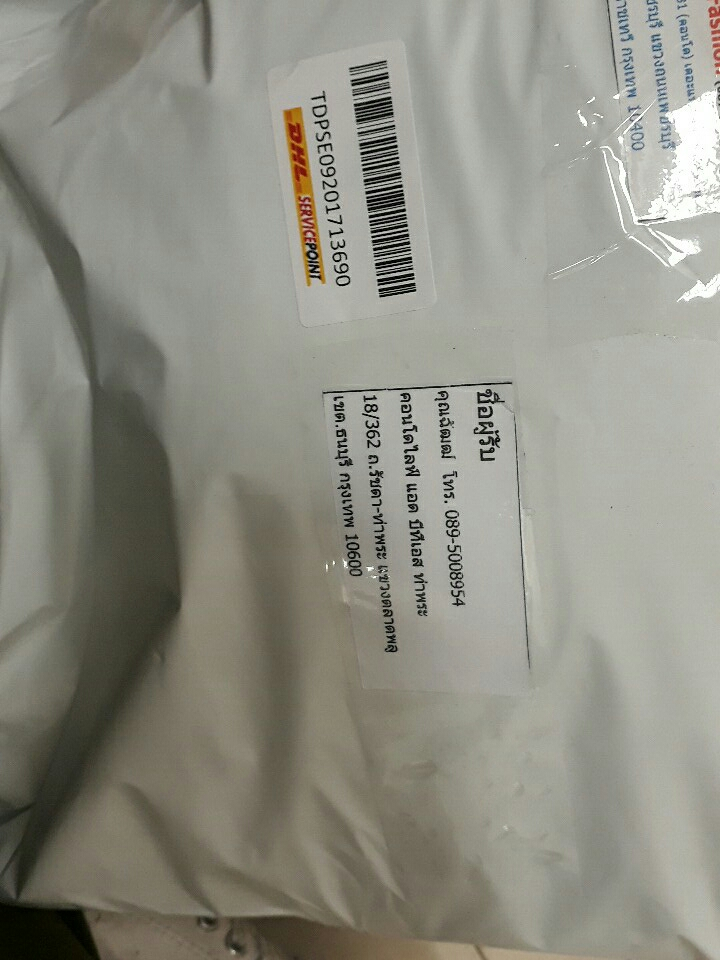ba: (258, 28, 461, 342)
txt: (329, 388, 477, 668)
